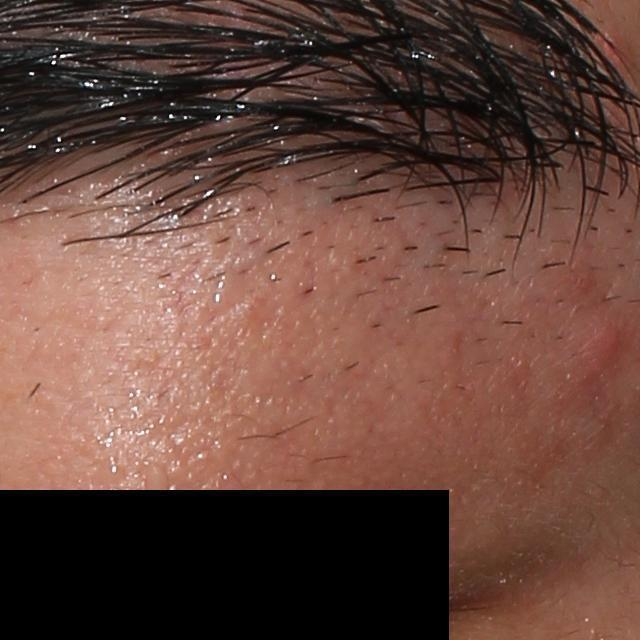papule: (568, 317, 624, 380)
